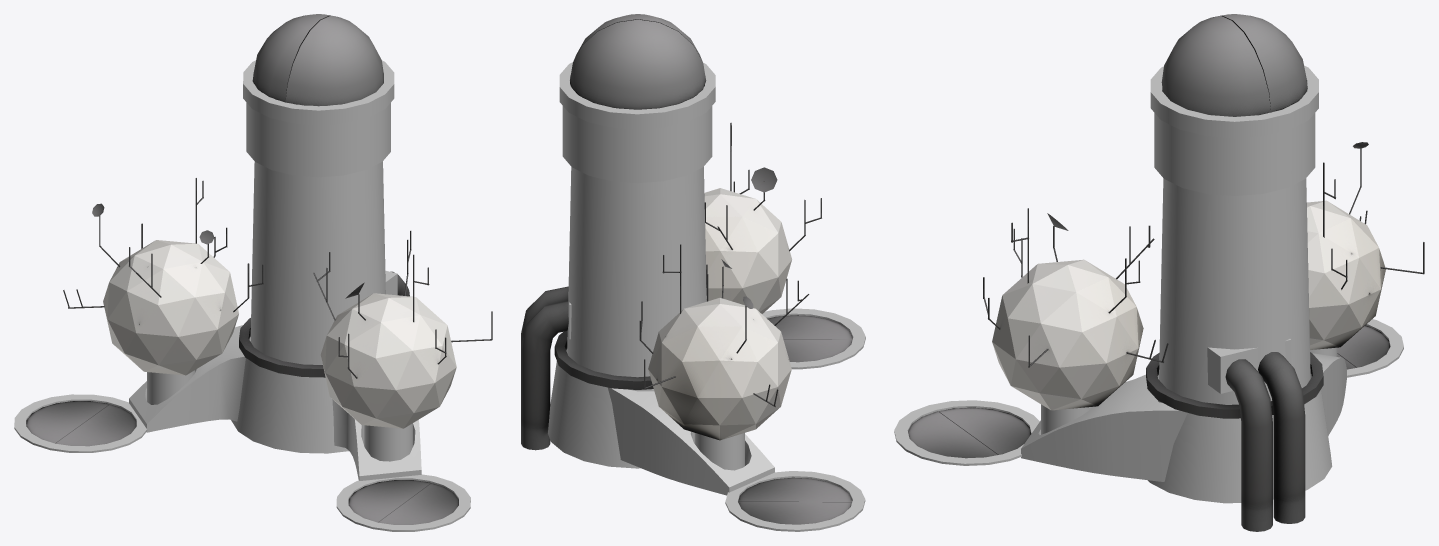
The picture shows the model from 3 angles, left to right: view 1: azimuth 30°, elevation 25°; view 2: azimuth 150°, elevation 25°; view 3: azimuth 270°, elevation 25°; orthographic projection. The views are drawn at different scales.
Parts seen in each view (by area): view 1: Base_Base, Base_Radarshphere_02, Base_Radarshphere_01, Base_Spheredoor_02, Base_Metals, Base_Spheredoor_01, Base_Trapdoor_01, Base_Trapdoor_03, Base_Trapdoor_04, Base_Trapdoor_02; view 2: Base_Base, Base_Radarshphere_02, Base_Spheredoor_01, Base_Metals, Base_Radarshphere_01, Base_Trapdoor_04, Base_Trapdoor_03, Base_Trapdoor_02, Base_Trapdoor_01, Base_Spheredoor_02; view 3: Base_Base, Base_Radarshphere_01, Base_Metals, Base_Radarshphere_02, Base_Spheredoor_02, Base_Spheredoor_01, Base_Trapdoor_01, Base_Trapdoor_02, Base_Trapdoor_03.
Boxes of the visible parts, x1,y1,x2,y2 form: Base_Base: [14, 60, 470, 531]; Base_Radarshphere_02: [103, 240, 238, 375]; Base_Radarshphere_01: [320, 293, 456, 428]; Base_Spheredoor_02: [285, 15, 383, 106]; Base_Metals: [63, 178, 492, 378]; Base_Spheredoor_01: [252, 14, 330, 102]; Base_Trapdoor_01: [348, 480, 431, 522]; Base_Trapdoor_03: [26, 401, 109, 443]; Base_Trapdoor_04: [56, 404, 136, 446]; Base_Trapdoor_02: [378, 483, 458, 524]; Base_Base: [548, 62, 865, 531]; Base_Radarshphere_02: [648, 298, 791, 440]; Base_Spheredoor_01: [570, 19, 706, 109]; Base_Metals: [521, 122, 821, 450]; Base_Radarshphere_01: [704, 188, 791, 313]; Base_Trapdoor_04: [738, 477, 852, 502]; Base_Trapdoor_03: [738, 502, 851, 524]; Base_Trapdoor_02: [767, 315, 852, 339]; Base_Trapdoor_01: [783, 339, 852, 362]; Base_Spheredoor_02: [573, 14, 702, 61]; Base_Base: [894, 65, 1403, 503]; Base_Radarshphere_01: [992, 259, 1143, 410]; Base_Metals: [983, 142, 1424, 531]; Base_Radarshphere_02: [1307, 200, 1385, 349]; Base_Spheredoor_02: [1161, 16, 1270, 116]; Base_Spheredoor_01: [1220, 14, 1307, 112]; Base_Trapdoor_01: [938, 407, 1031, 454]; Base_Trapdoor_02: [908, 411, 997, 458]; Base_Trapdoor_03: [1337, 325, 1390, 367].
Size of what is drawn, in the model's own units: 15.99 by 17.7 by 18.63.
